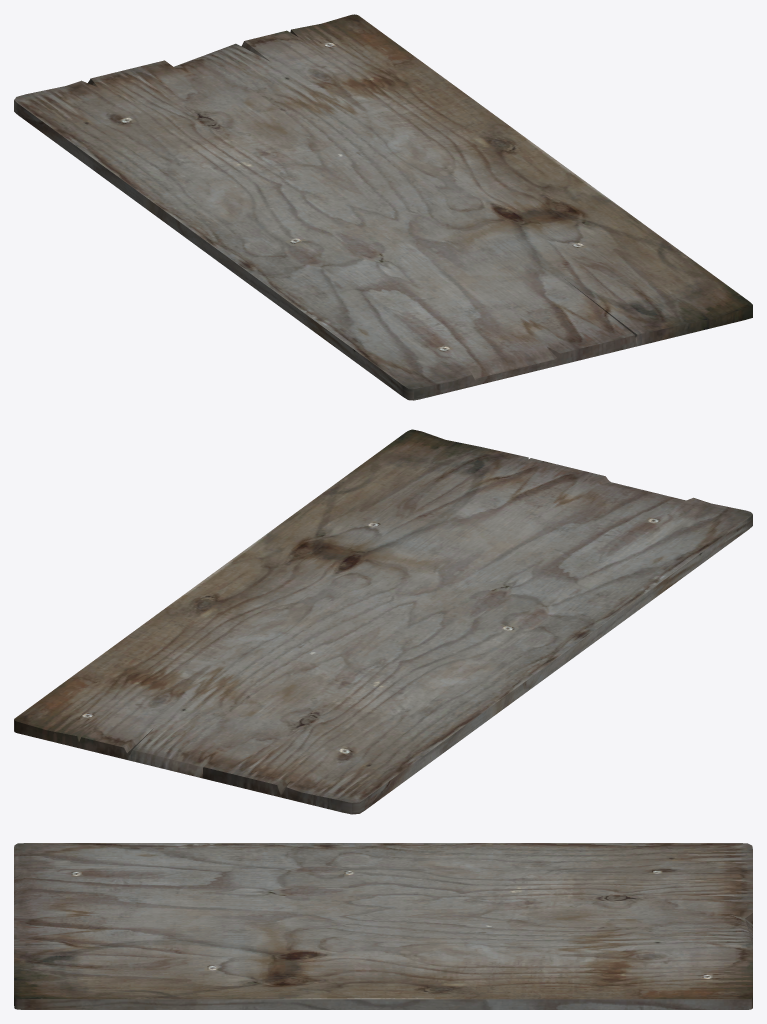
File: p6_pak_old_plywood_small_lod0.glb
3 renders of one model, top to bottom at view 1: azimuth 30°, elevation 25°; view 2: azimuth 150°, elevation 25°; view 3: azimuth 270°, elevation 25°, orthographic. The views are drawn at different scales.
Parts seen in each view (by area): view 1: p6_pak_old_plywood_lod0; view 2: p6_pak_old_plywood_lod0; view 3: p6_pak_old_plywood_lod0.
Boxes of the visible parts, bbox=[...] form: p6_pak_old_plywood_lod0: bbox=[14, 14, 752, 400]; p6_pak_old_plywood_lod0: bbox=[14, 429, 752, 814]; p6_pak_old_plywood_lod0: bbox=[14, 843, 752, 1009].
Size of the model in its own units: 39.62 by 1.65 by 79.25.
1 material, 1 textured.
